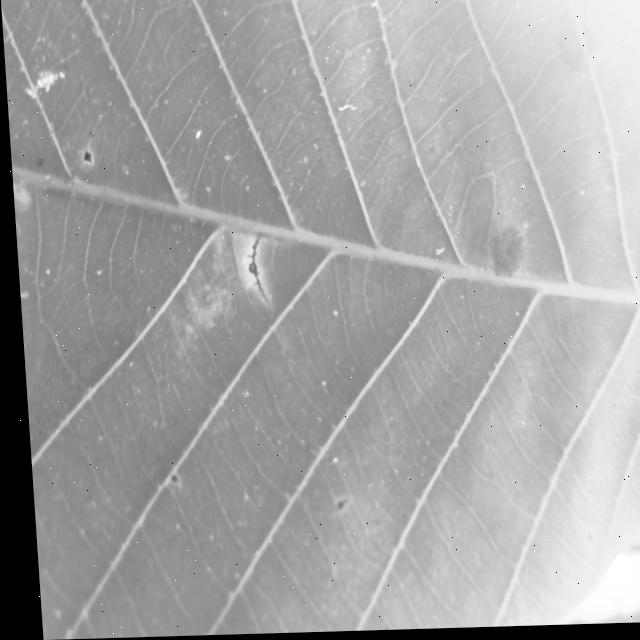Colletotrichum: (80, 152, 89, 164), (163, 475, 171, 484)
Corynespora: (242, 238, 264, 306)
